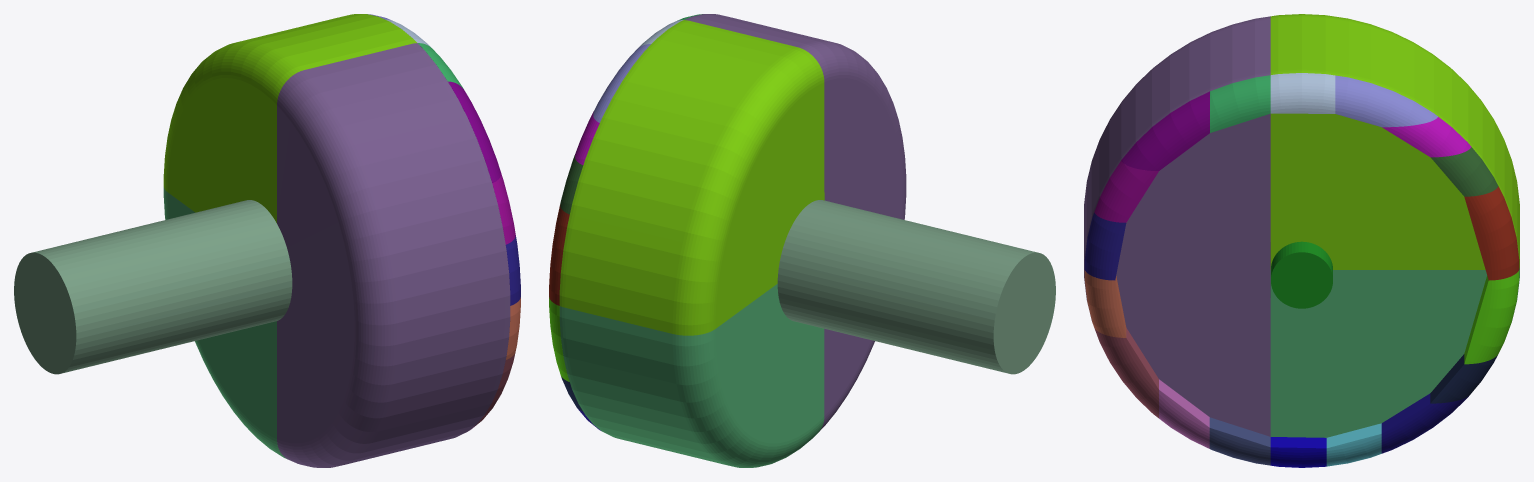
File: 5_canonical.obj
3 views of the same model, side by side, from view 1: azimuth 30°, elevation 25°; view 2: azimuth 150°, elevation 25°; view 3: azimuth 270°, elevation 25° (orthographic).
Visible parts, largest first — view 1: geometry_1, geometry_0, geometry_4, geometry_3, geometry_11, geometry_14, geometry_18, geometry_9; view 2: geometry_4, geometry_0, geometry_3, geometry_1, geometry_15, geometry_12, geometry_17, geometry_19, geometry_22; view 3: geometry_1, geometry_4, geometry_3, geometry_11, geometry_8, geometry_12, geometry_15, geometry_17, geometry_6, geometry_10, geometry_13, geometry_20 (+10 smaller).
Boxes of the visible parts, left/top/right/bottom form: geometry_1: left=277, top=43, right=510, bottom=467; geometry_0: left=14, top=200, right=292, bottom=374; geometry_4: left=163, top=14, right=416, bottom=222; geometry_3: left=163, top=187, right=287, bottom=459; geometry_11: left=448, top=81, right=500, bottom=182; geometry_14: left=492, top=173, right=515, bottom=244; geometry_18: left=505, top=235, right=520, bottom=305; geometry_9: left=506, top=297, right=520, bottom=359; geometry_4: left=559, top=20, right=824, bottom=335; geometry_0: left=777, top=200, right=1055, bottom=374; geometry_3: left=559, top=284, right=824, bottom=467; geometry_1: left=684, top=14, right=906, bottom=431; geometry_15: left=549, top=204, right=569, bottom=305; geometry_12: left=593, top=44, right=650, bottom=122; geometry_17: left=549, top=297, right=569, bottom=381; geometry_19: left=560, top=155, right=583, bottom=214; geometry_22: left=575, top=111, right=599, bottom=164; geometry_1: left=1084, top=16, right=1270, bottom=436; geometry_4: left=1270, top=14, right=1519, bottom=269; geometry_3: left=1270, top=268, right=1519, bottom=437; geometry_11: left=1121, top=91, right=1209, bottom=170; geometry_8: left=1271, top=241, right=1332, bottom=308; geometry_12: left=1335, top=75, right=1437, bottom=127; geometry_15: left=1464, top=186, right=1519, bottom=280; geometry_17: left=1464, top=270, right=1519, bottom=364; geometry_6: left=1270, top=73, right=1335, bottom=113; geometry_10: left=1210, top=75, right=1270, bottom=132; geometry_13: left=1094, top=328, right=1158, bottom=418; geometry_20: left=1381, top=393, right=1469, bottom=453.
Size of the model in its own units: 0.035 by 0.035 by 0.0349.
